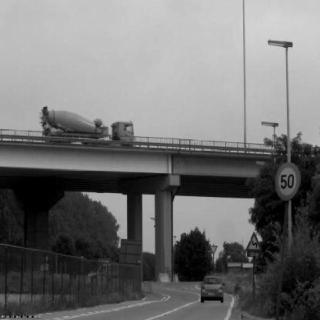other: (38, 93, 144, 144)
